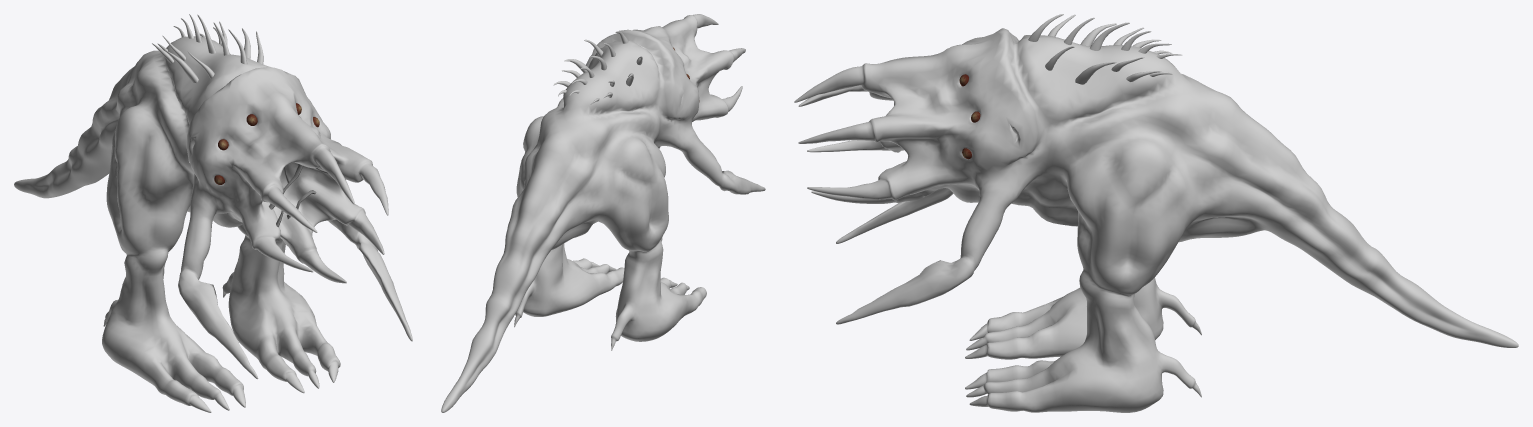
File: ReptileAlien.obj
3 renders of one model, left to right at view 1: azimuth 30°, elevation 25°; view 2: azimuth 150°, elevation 25°; view 3: azimuth 270°, elevation 25°, orthographic. The views are drawn at different scales.
Visible parts, largest first — view 1: Reptile_Alien_Creature Body, Reptile_Alien_Creature Spikes, Mouth_Saliva Reptile_Alien_Creature, Reptile_Alien_Creature Monster_Eyes; view 2: Reptile_Alien_Creature Body, Reptile_Alien_Creature Spikes; view 3: Reptile_Alien_Creature Body, Reptile_Alien_Creature Spikes.
Boxes of the visible parts, x1,y1,x2,y2 form: Reptile_Alien_Creature Body: (14, 36, 412, 412); Reptile_Alien_Creature Spikes: (152, 14, 263, 83); Mouth_Saliva Reptile_Alien_Creature: (269, 163, 328, 227); Reptile_Alien_Creature Monster_Eyes: (214, 103, 319, 184); Reptile_Alien_Creature Body: (441, 14, 765, 412); Reptile_Alien_Creature Spikes: (553, 31, 642, 104); Reptile_Alien_Creature Body: (794, 28, 1518, 412); Reptile_Alien_Creature Spikes: (1028, 14, 1182, 84).
Size of the model in its own units: 176 by 291 by 530.
